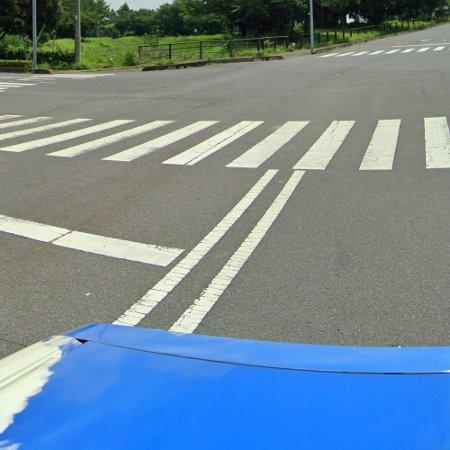crosswalks: (0, 111, 450, 171)
